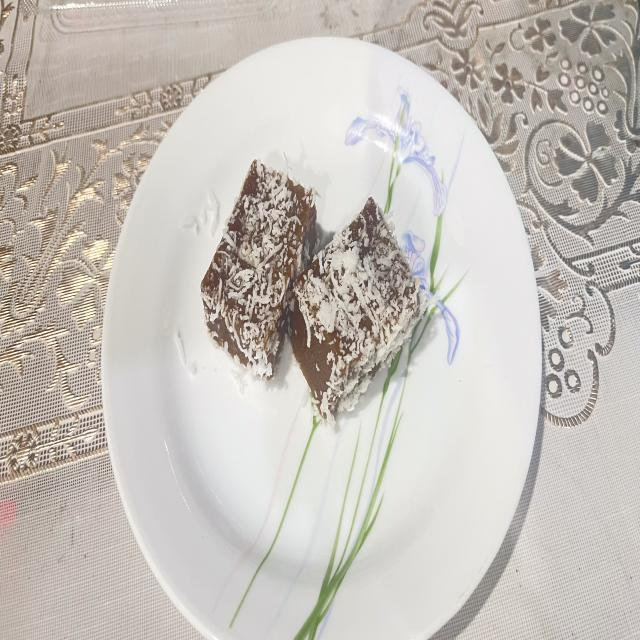kaswi: (290, 198, 426, 424), (201, 160, 318, 378)
